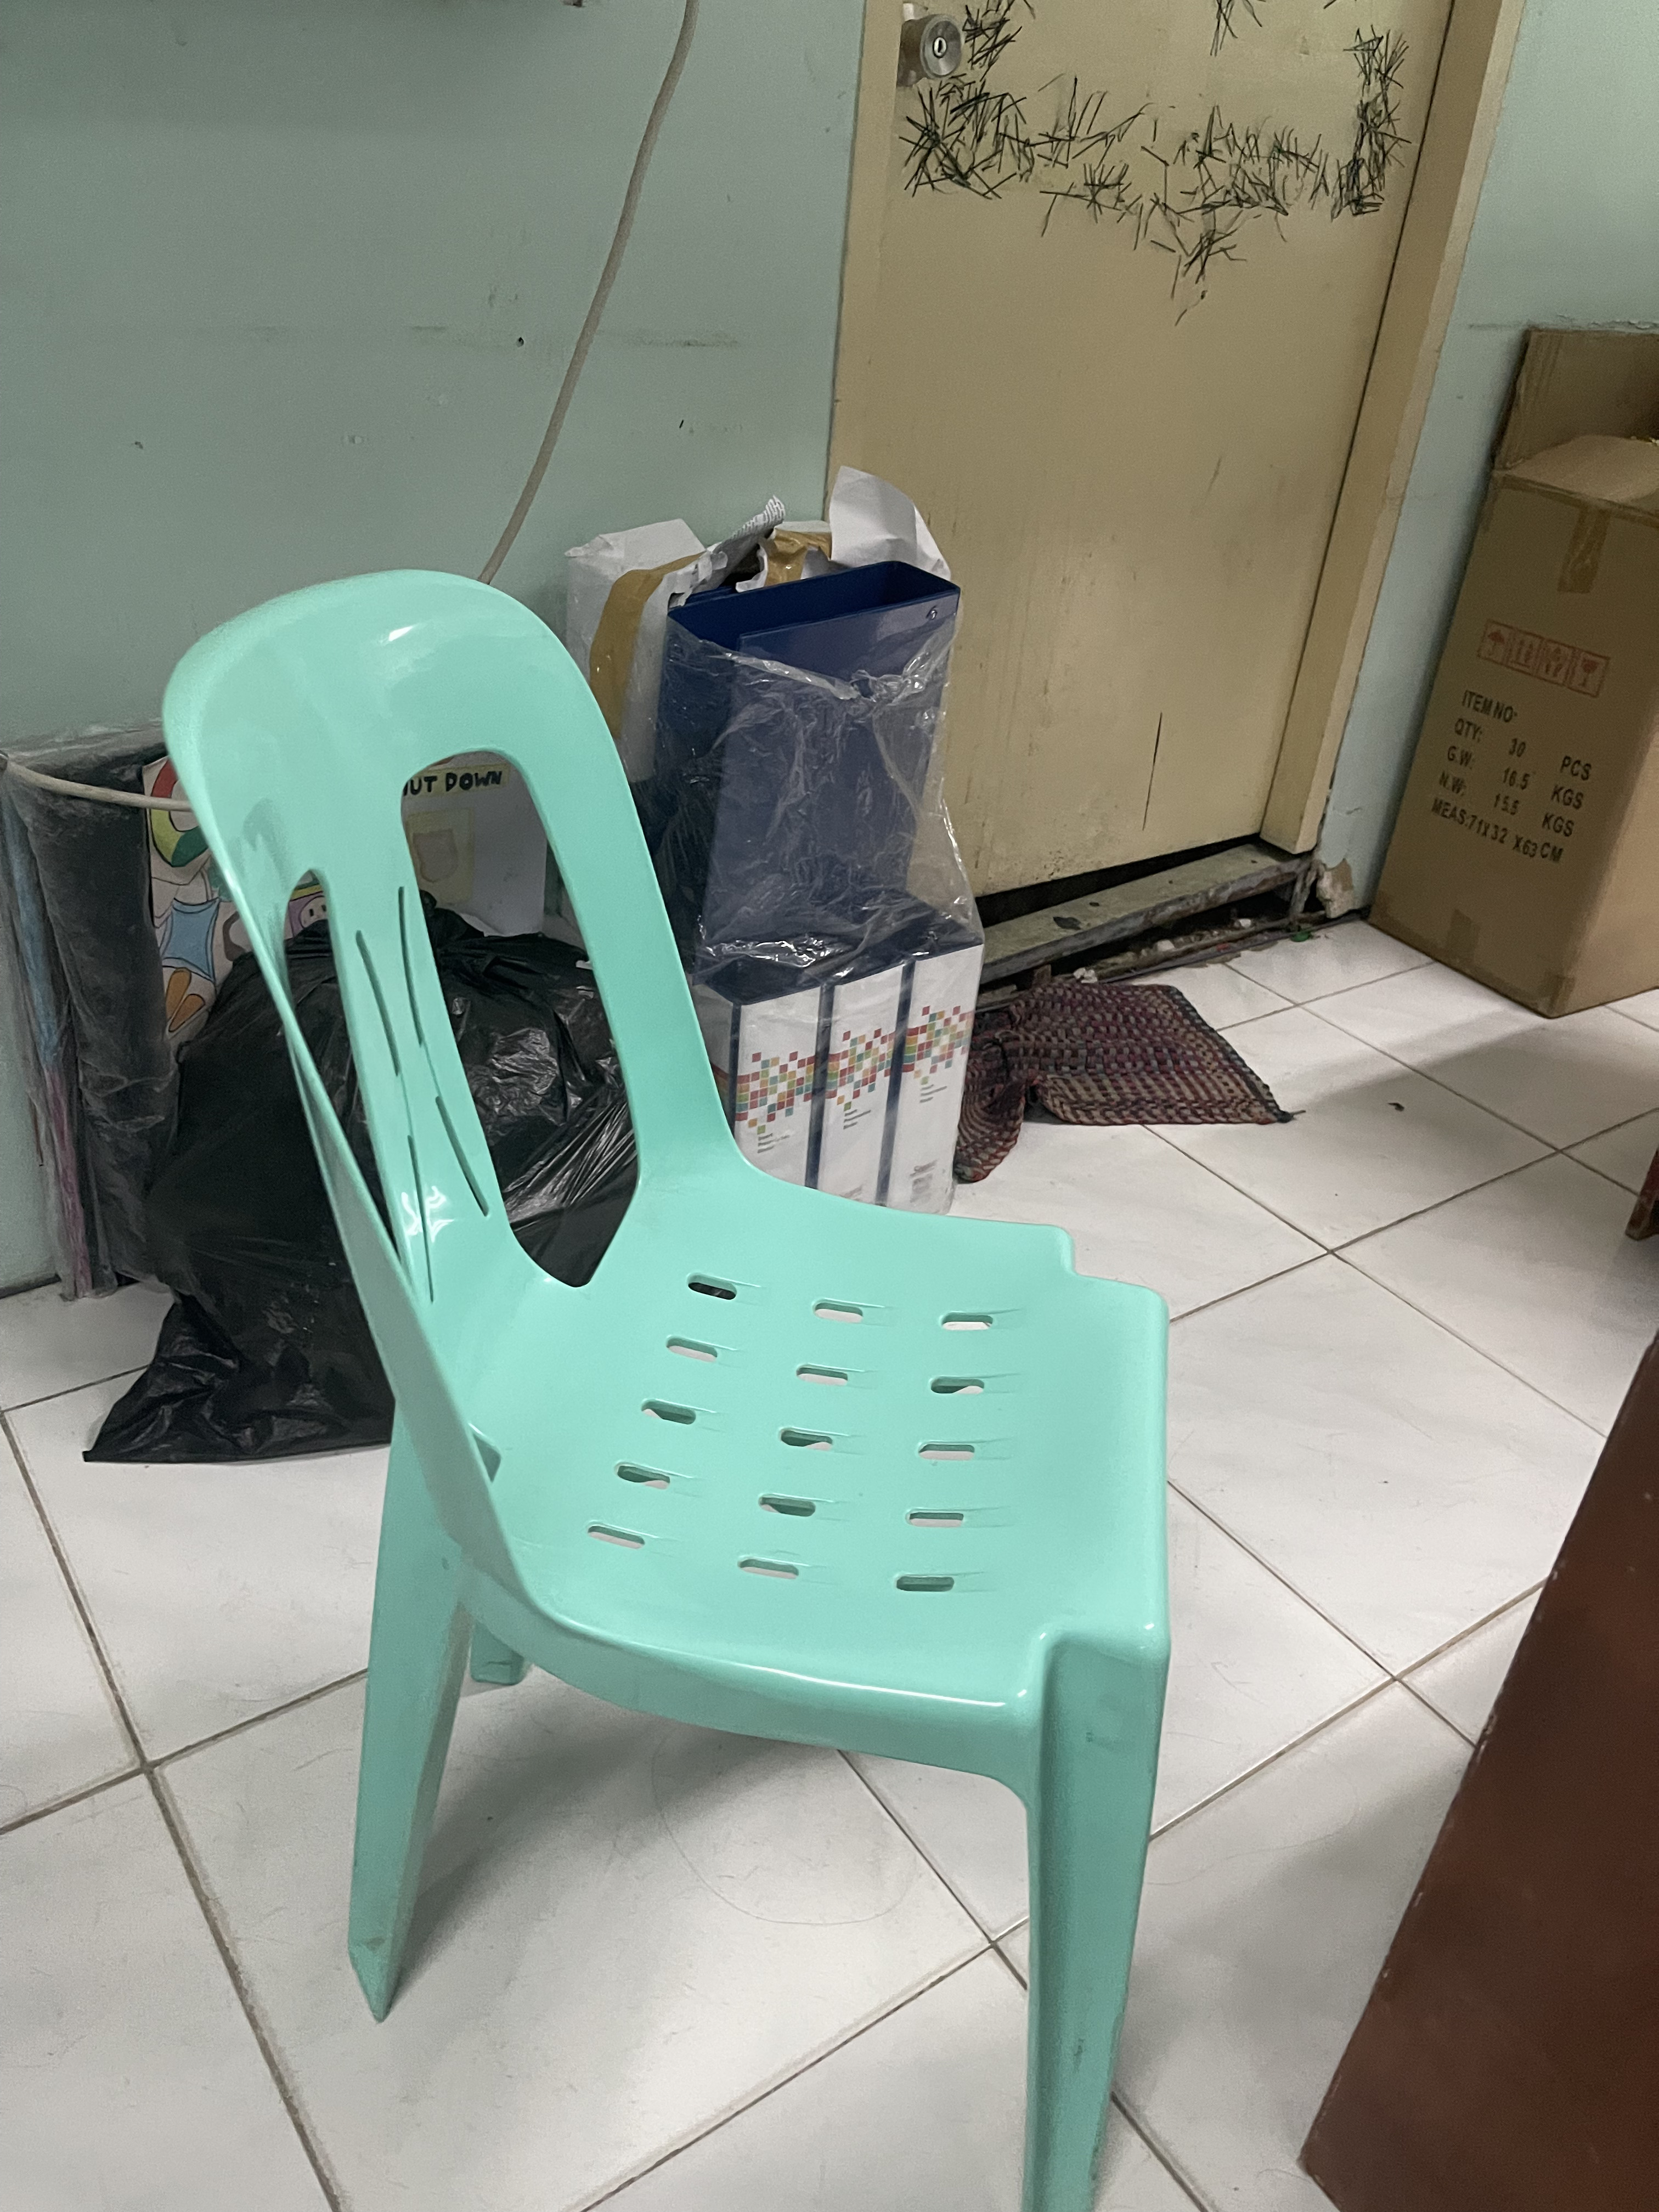chair2: (152, 559, 1194, 2212)
